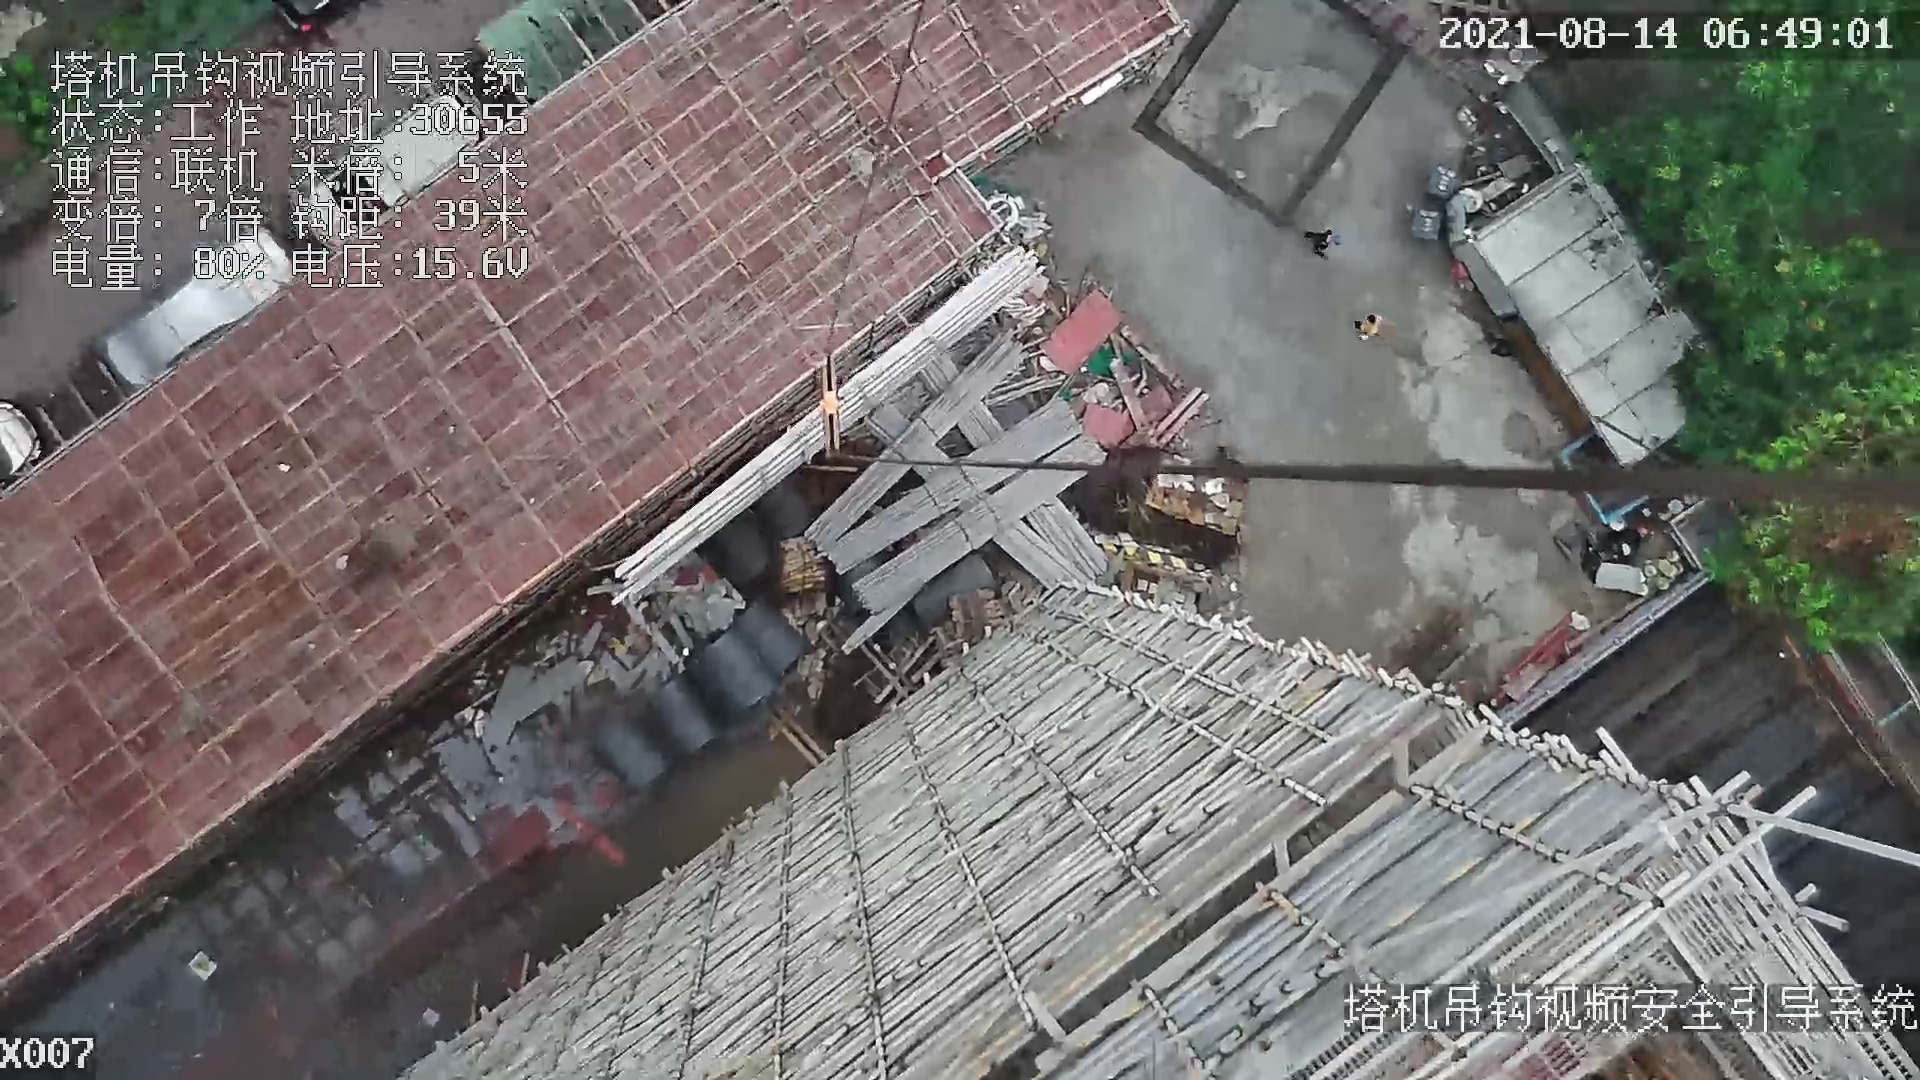hook: (815, 347, 847, 455)
person: (1308, 224, 1342, 256), (1356, 308, 1385, 341)
